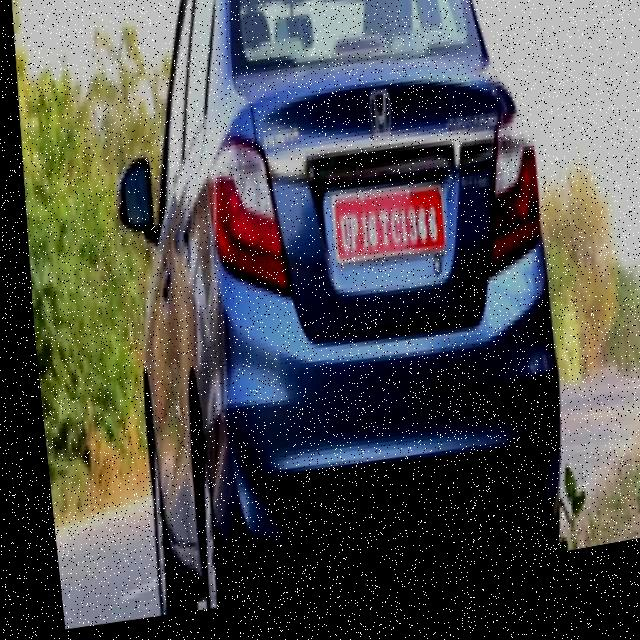license_plate: (320, 170, 443, 287)
